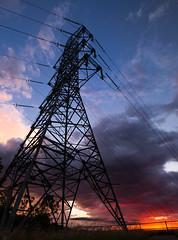power_tower: (3, 17, 132, 236)
